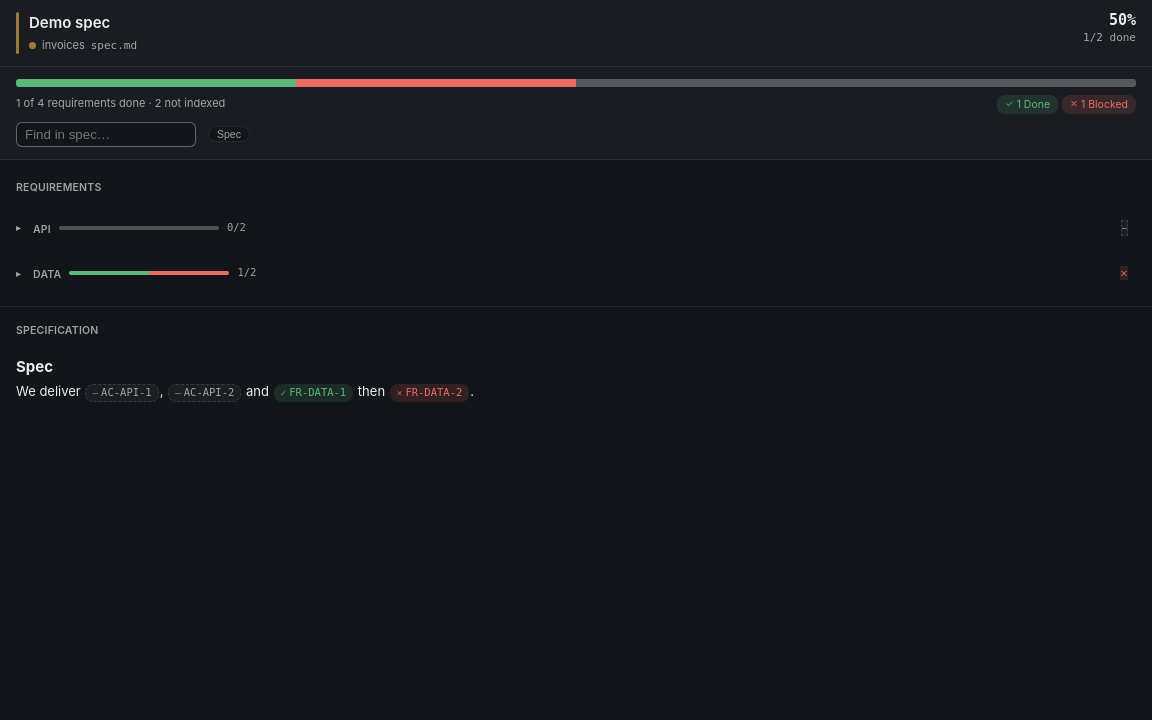
Test: SpecDetail roll-up + chip-as-expander › expands a ref's RequirementDetail inline when its chip is clicked (chip IS the expander)
The width and height of the screenshot is (1152, 720).
Click the button with class "spec-family-head" showing "▸ API 0/2 –" at (139, 228), box [12, 211, 1132, 244]
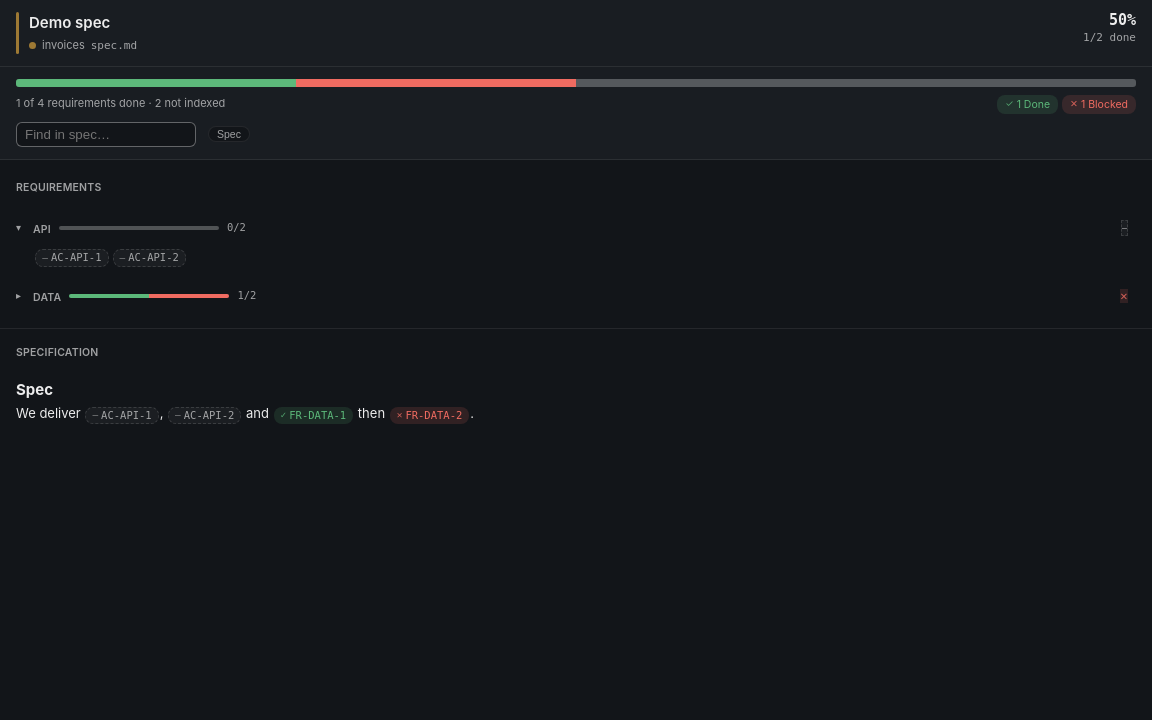
Click the button with class "spec-family-head" showing "▸ DATA 1/2 ✕" at (149, 296), box [12, 279, 1132, 312]
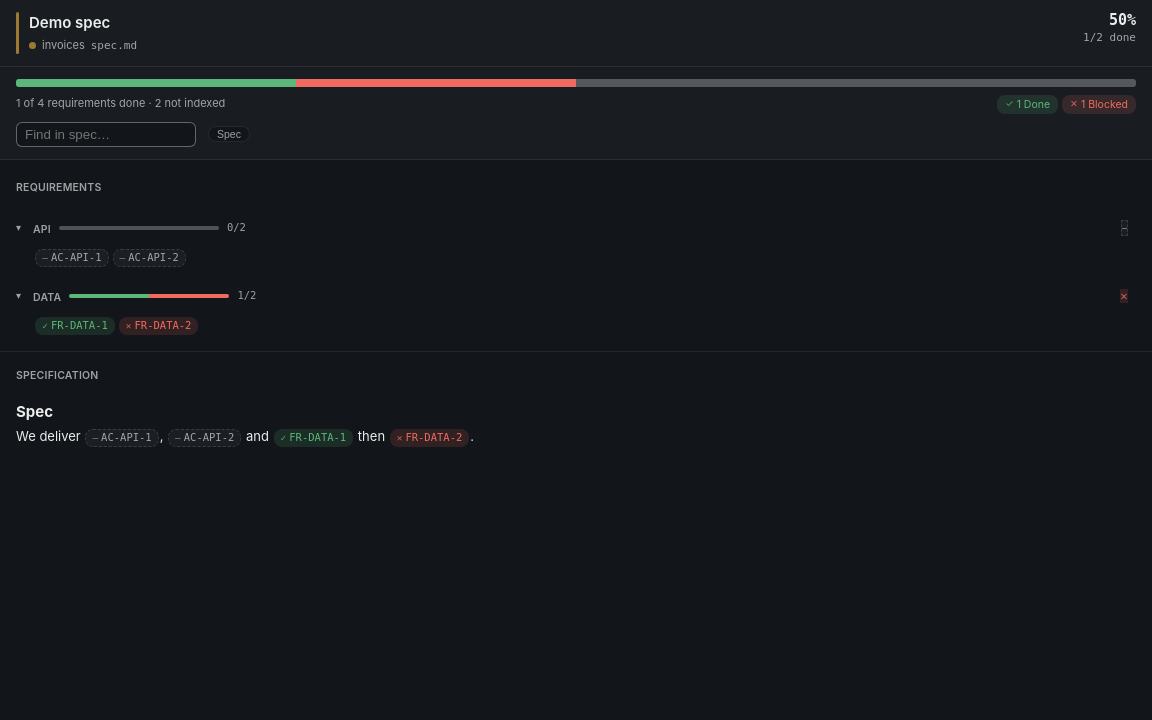
Expected: the text "returns all three seeded invoices" is not shown
Click the 1st button "✓ FR-DATA-1" at (75, 326), box [35, 317, 115, 335]
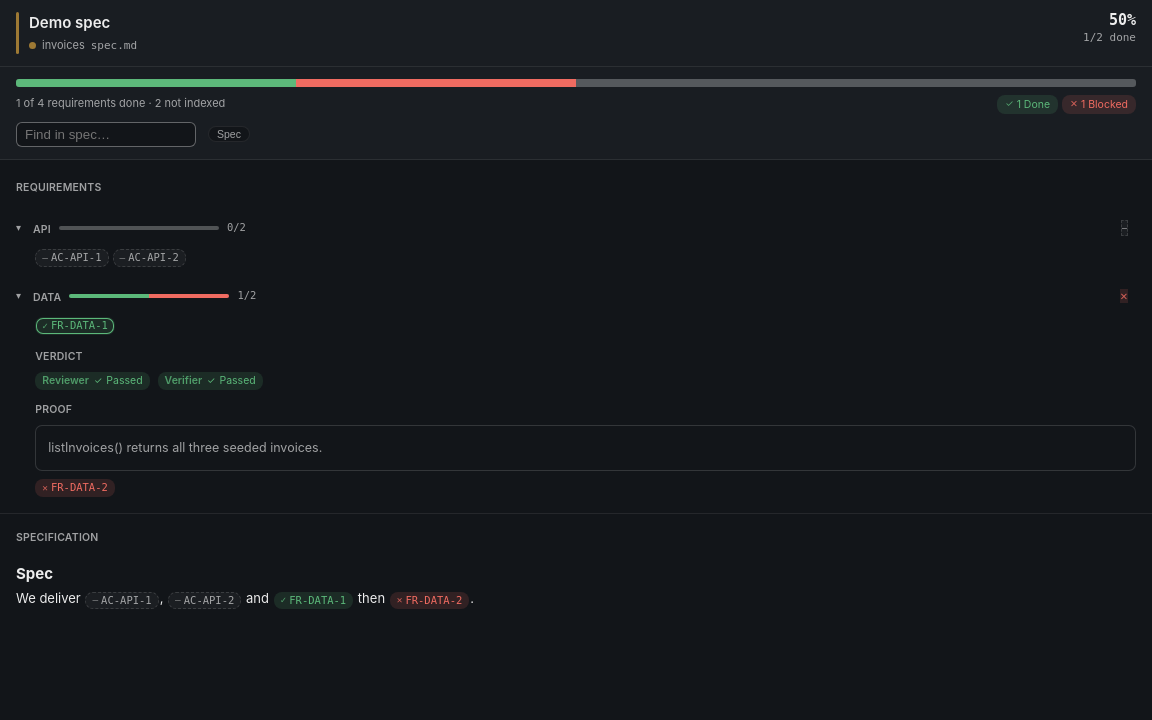
Result: the text "listInvoices() returns all three seeded invoices." is shown at [48, 440, 322, 455]
Result: the text "Verdict" is shown at [35, 350, 83, 363]
